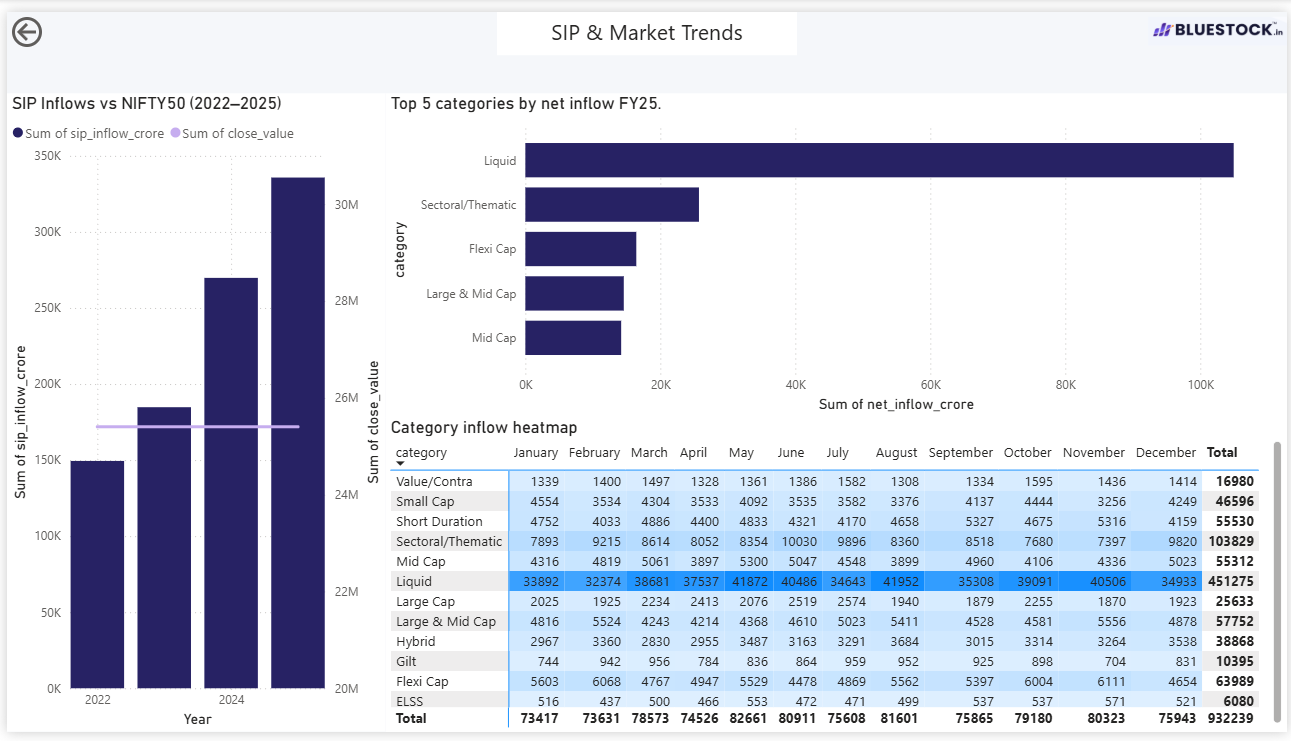

The page's visual inventory and layout, read from the dashboard file:
{"tool":"powerbi","page":{"name":"SIP & Market Trends","canvas":[1280,720],"ordinal":3},"visuals":[{"type":"lineClusteredColumnComboChart","title":"SIP Inflows vs NIFTY50 (2022–2025)","fields":{"Category":["clean_monthly_sip_inflows.month.Variation.Date Hierarchy.Year","clean_monthly_sip_inflows.month.Variation.Date Hierarchy.Quarter","clean_monthly_sip_inflows.month.Variation.Date Hierarchy.Month","clean_monthly_sip_inflows.month.Variation.Date Hierarchy.Day"],"Y":["Sum(clean_monthly_sip_inflows.sip_inflow_crore)"],"Y2":["Sum(clean_benchmark_indices.close_value)"]},"box":[0,81.2,378.8,638.8],"z":0},{"type":"pivotTable","title":"Category inflow heatmap","fields":{"Rows":["clean_category_inflows.category"],"Columns":["clean_category_inflows.month.Variation.Date Hierarchy.Month"],"Values":["Sum(clean_category_inflows.net_inflow_crore)"]},"box":[378.8,405,901.2,315],"z":1000},{"type":"barChart","title":"Top 5 categories by net inflow FY25.","fields":{"Category":["clean_category_inflows.category"],"Y":["Sum(clean_category_inflows.net_inflow_crore)"]},"box":[378.8,81.2,901.2,323.8],"z":2000},{"type":"textbox","box":[490,0,300,43.3],"z":3000},{"type":"actionButton","box":[0,0,100,40],"z":4000},{"type":"image","box":[1141.1,0,138.9,38.9],"z":5000}]}

Visuals, with their boxes in screenshot pixels (x1, y1, x2, y2), scaled from the page's 1280x720 canvas onto the 1291x741 screenshot:
"SIP Inflows vs NIFTY50 (2022–2025)" lineClusteredColumnComboChart: (x1=0, y1=84, x2=382, y2=740)
"Category inflow heatmap" pivotTable: (x1=382, y1=417, x2=1290, y2=740)
"Top 5 categories by net inflow FY25." barChart: (x1=382, y1=84, x2=1290, y2=417)
textbox: (x1=494, y1=0, x2=797, y2=45)
actionButton: (x1=0, y1=0, x2=101, y2=41)
image: (x1=1151, y1=0, x2=1290, y2=40)
